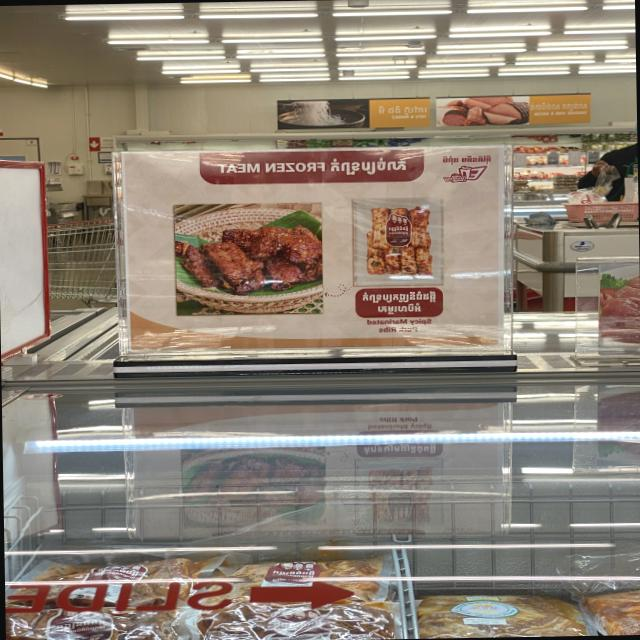1: (436, 150, 493, 166), (527, 99, 588, 112)
2: (370, 104, 429, 115)
Yolov11kh: (321, 152, 413, 177), (354, 286, 438, 304), (370, 300, 424, 317), (388, 224, 409, 231), (386, 230, 409, 235)
